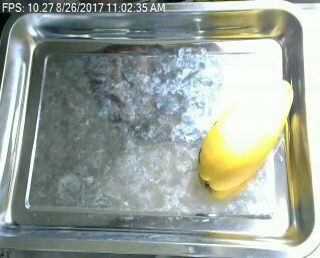Mango: (197, 71, 299, 194)
